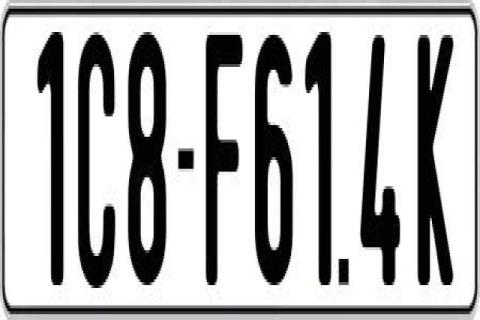0: (360, 32, 404, 294), (255, 26, 295, 294), (126, 27, 167, 280), (34, 32, 64, 291), (303, 29, 331, 299)
C: (76, 29, 120, 294)
F: (205, 26, 241, 288)
K: (418, 26, 454, 291)
